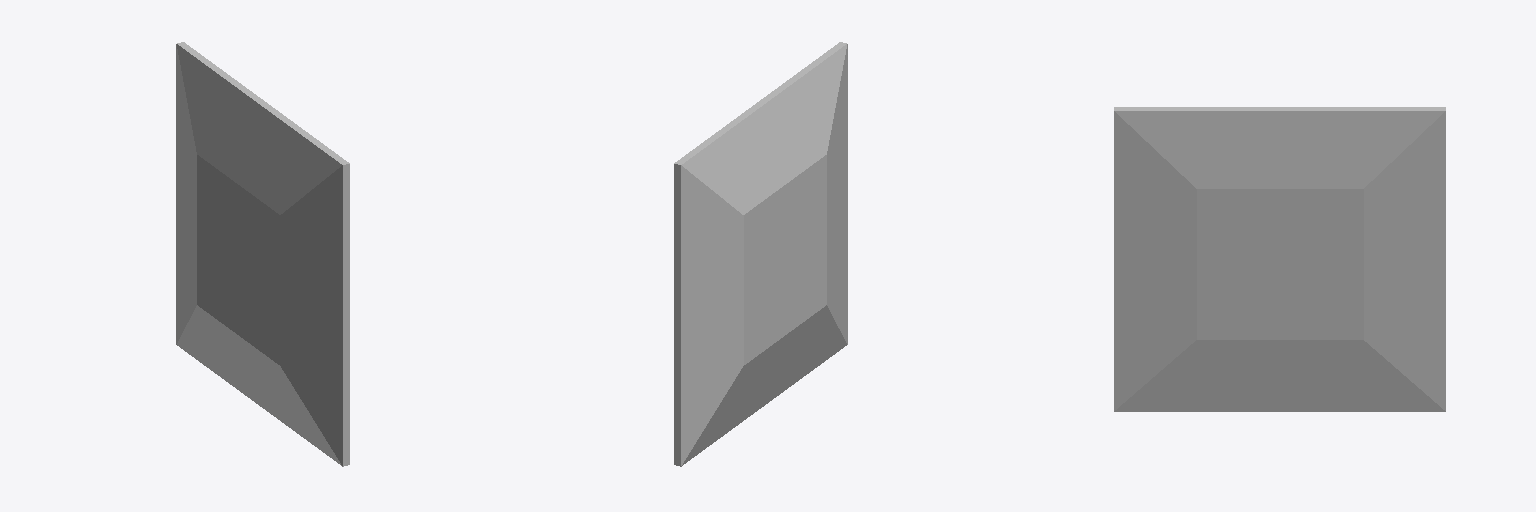
File: 0205_3D_1Board.obj
3 views of the same model, side by side, from view 1: azimuth 30°, elevation 25°; view 2: azimuth 150°, elevation 25°; view 3: azimuth 270°, elevation 25° (orthographic).
Visible parts, largest first — view 1: 立方体; view 2: 立方体; view 3: 立方体.
Part boxes in pixels (left/top/right/bottom): 立方体: left=176, top=42, right=349, bottom=466; 立方体: left=674, top=42, right=847, bottom=466; 立方体: left=1114, top=107, right=1445, bottom=411.
Bounding box in the file's own units: 0.24 × 2 × 2.